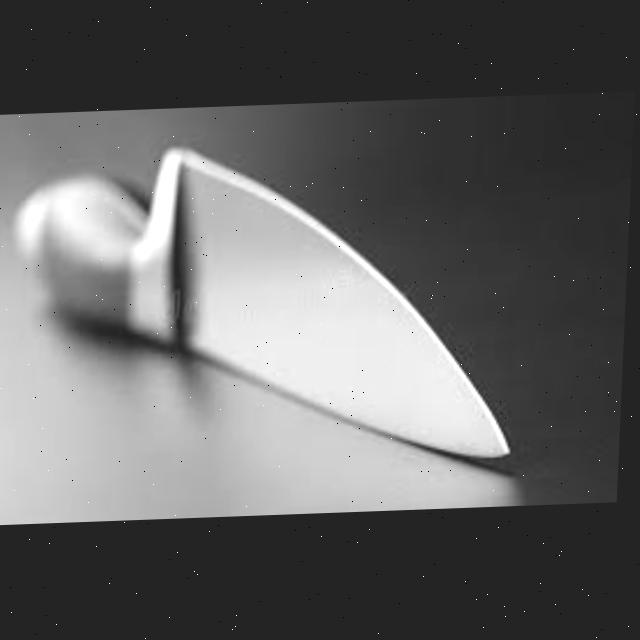Knife: (8, 134, 528, 478)
